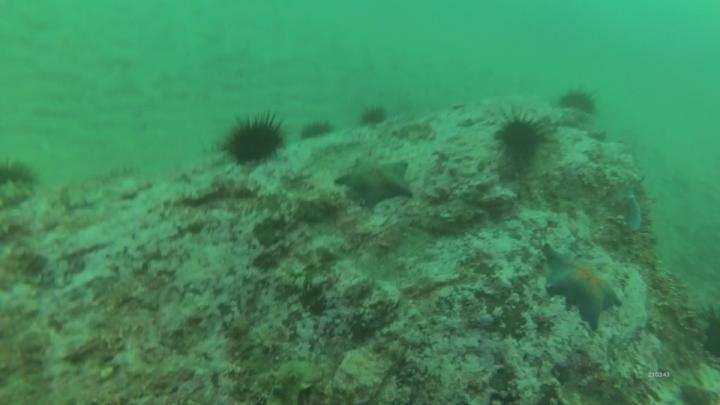echinus: (220, 111, 288, 168), (494, 111, 550, 163), (695, 302, 720, 363), (1, 156, 39, 194), (557, 86, 600, 117), (298, 118, 336, 144), (358, 103, 389, 130)
holothurian: (263, 355, 326, 404)
starfish: (542, 244, 624, 332), (334, 155, 415, 210)
